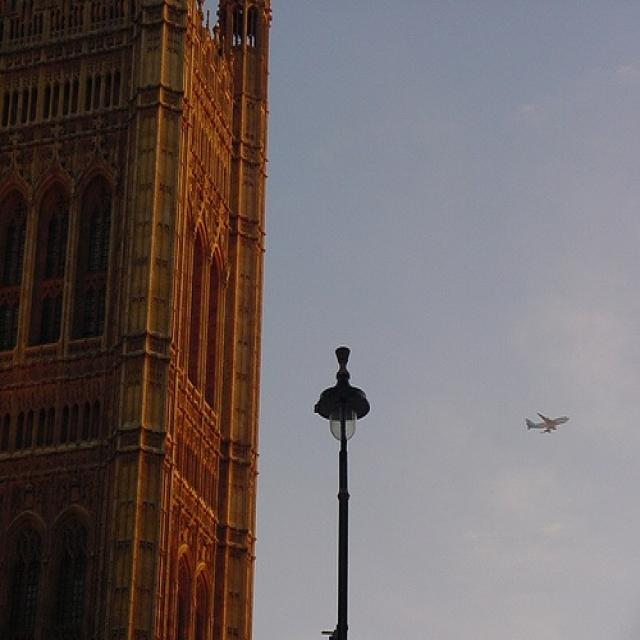aeroplane: (522, 414, 574, 438)
